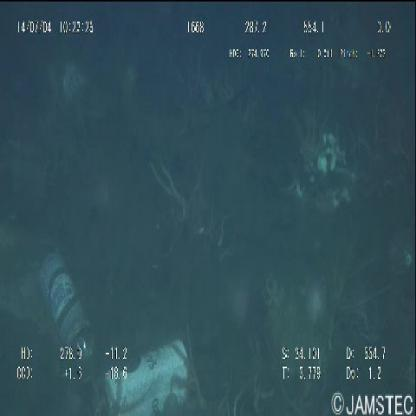Rác: (102, 336, 192, 414)
